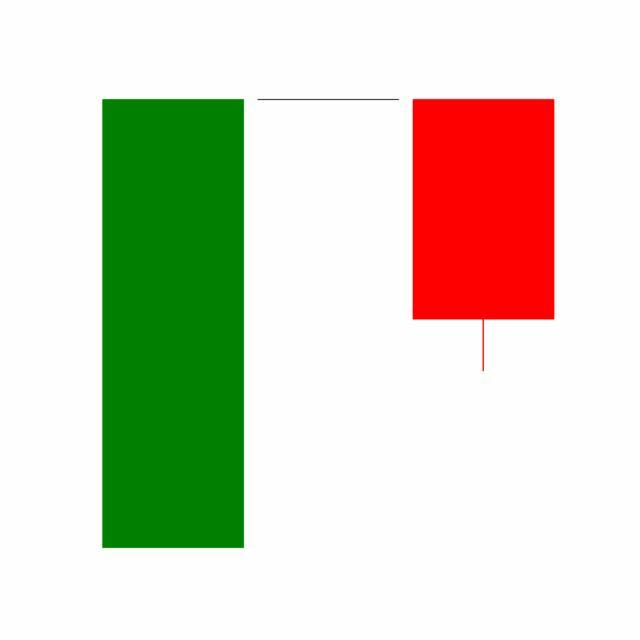Hammer: (251, 99, 406, 101)
